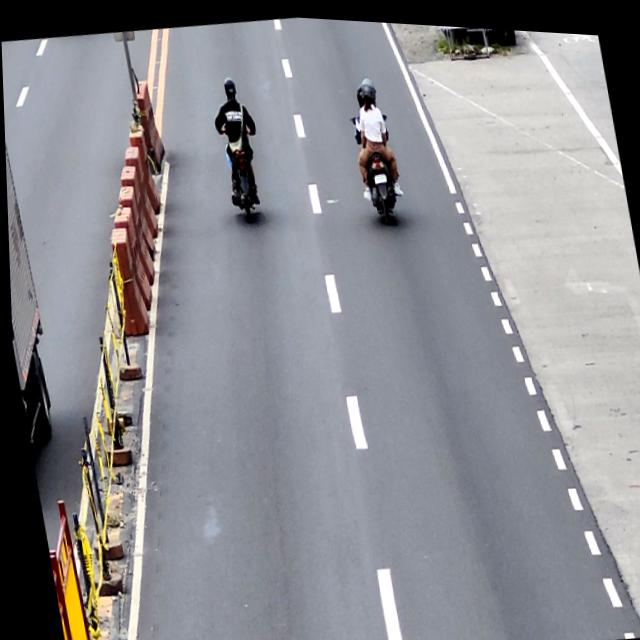License-Plate: (372, 169, 386, 183)
Motorcycle: (350, 102, 406, 226), (218, 107, 263, 221)
